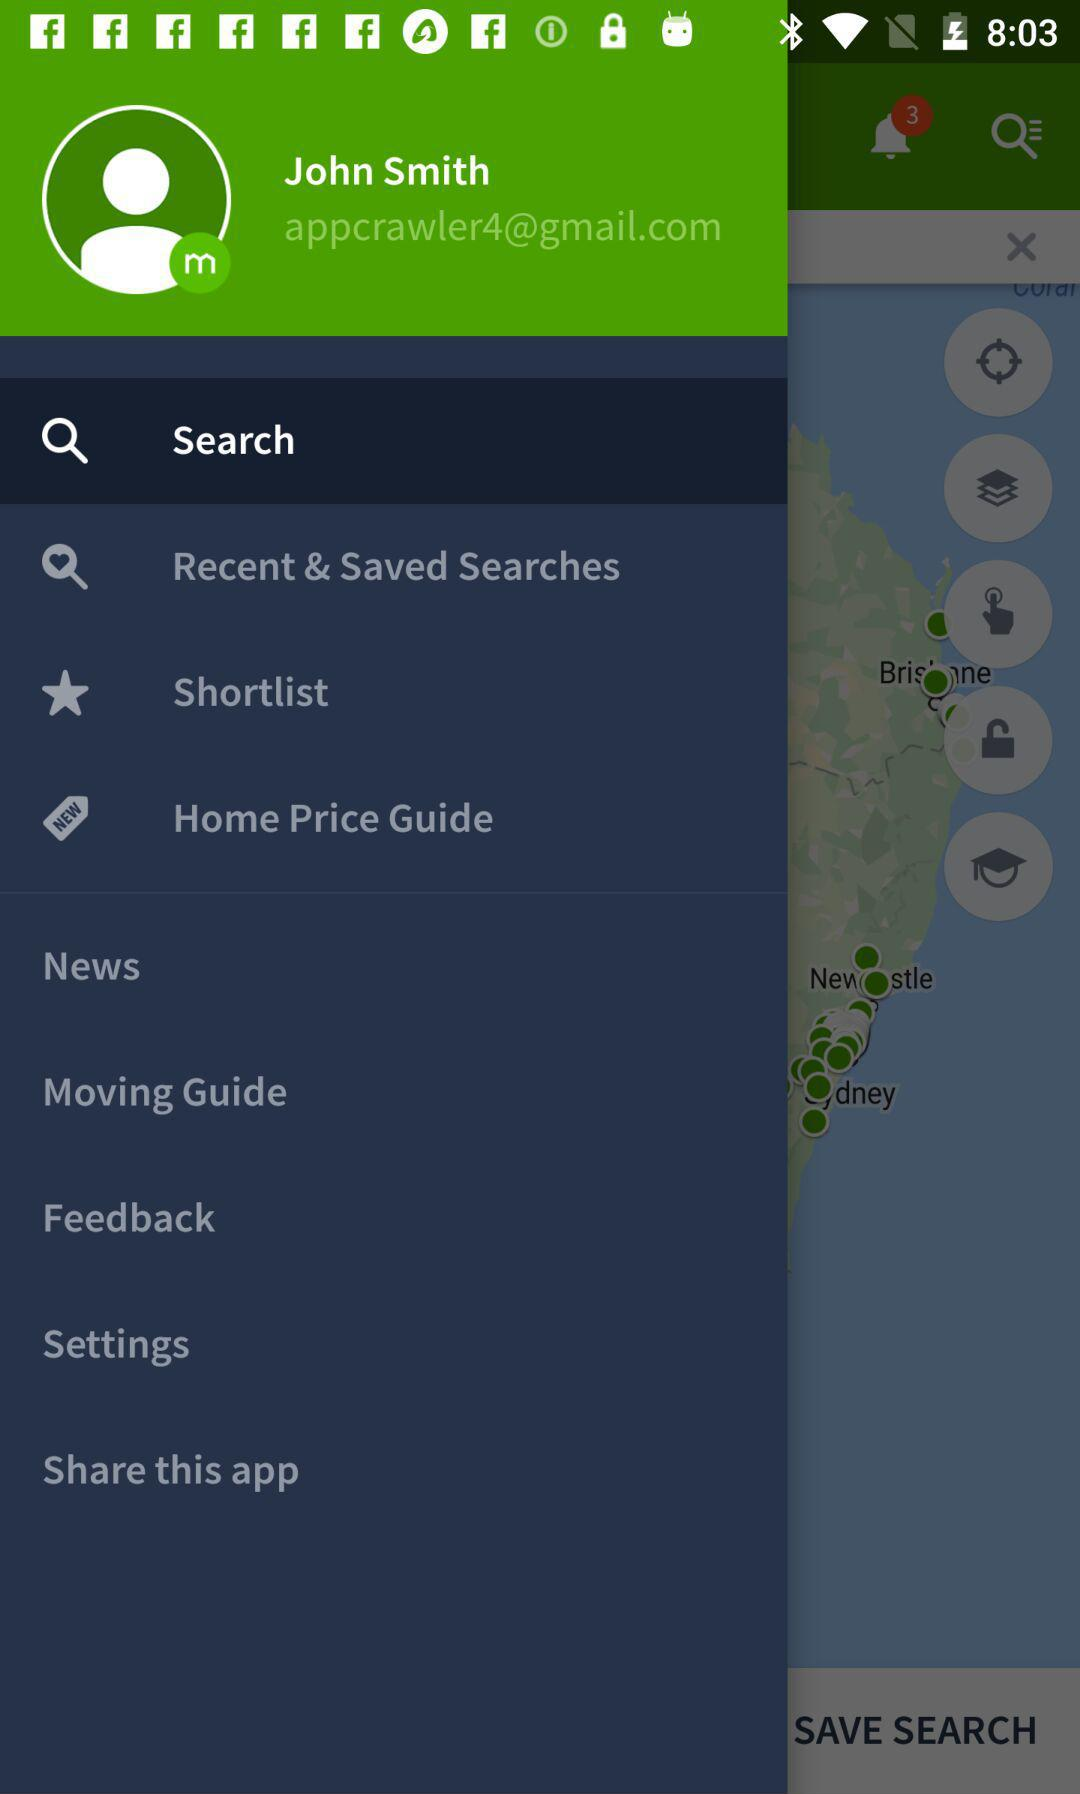Drawer: (1, 62, 789, 1793)
Icon: (41, 105, 233, 296), (41, 543, 91, 595), (42, 668, 91, 718), (42, 416, 91, 466)
Image: (42, 794, 91, 843)
Text: (284, 208, 720, 252), (173, 548, 623, 584), (174, 800, 495, 835), (44, 1452, 301, 1495), (44, 1073, 290, 1116), (283, 155, 492, 191), (44, 1326, 190, 1369), (44, 1201, 218, 1235), (174, 674, 332, 709), (172, 423, 296, 457), (44, 951, 142, 982)
UpperTaskBar: (1, 1, 1080, 64)
